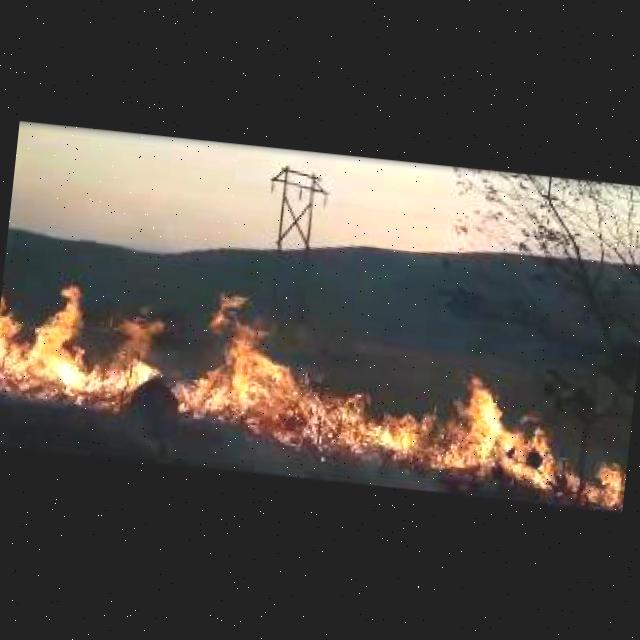fire: (168, 291, 640, 505), (0, 269, 169, 422)
